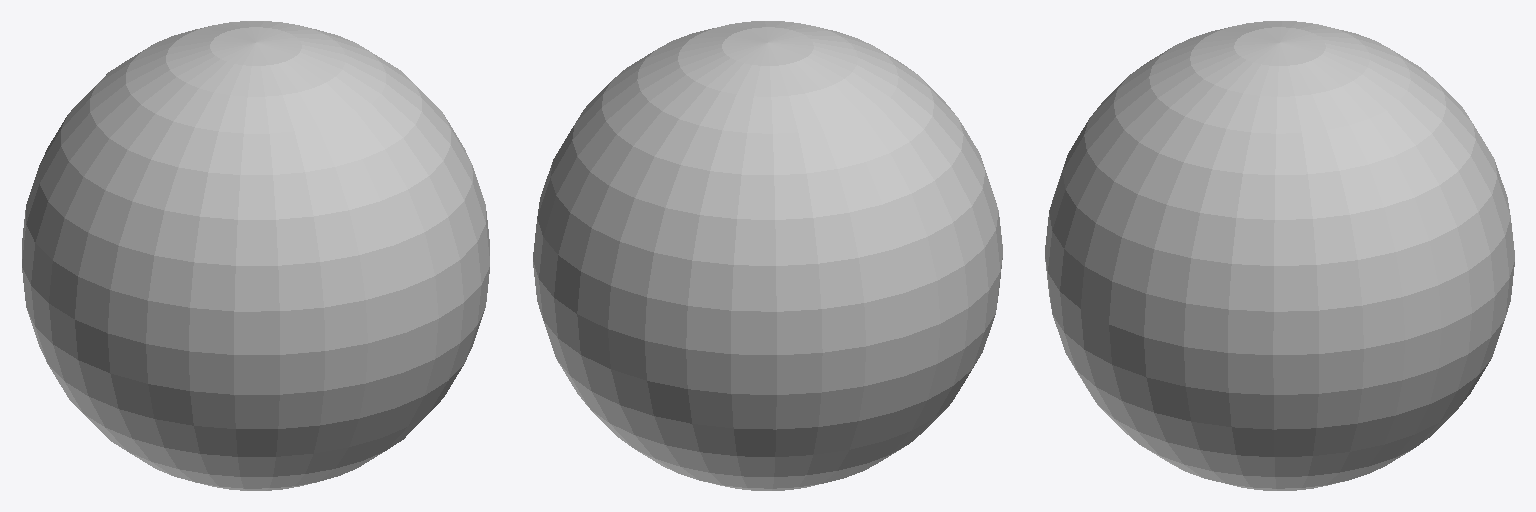
The model's file is mesh_bodyjoint_l1.obj.
3 renders of one model, left to right at view 1: azimuth 30°, elevation 25°; view 2: azimuth 150°, elevation 25°; view 3: azimuth 270°, elevation 25°, orthographic.
Visible parts, largest first — view 1: Sphere.009_Sphere.018; view 2: Sphere.009_Sphere.018; view 3: Sphere.009_Sphere.018.
Boxes of the visible parts, x1,y1,x2,y2 form: Sphere.009_Sphere.018: [22, 21, 489, 490]; Sphere.009_Sphere.018: [533, 21, 1002, 490]; Sphere.009_Sphere.018: [1045, 21, 1514, 490].
Size of the model in its own units: 0.2999 by 0.3 by 0.2999.